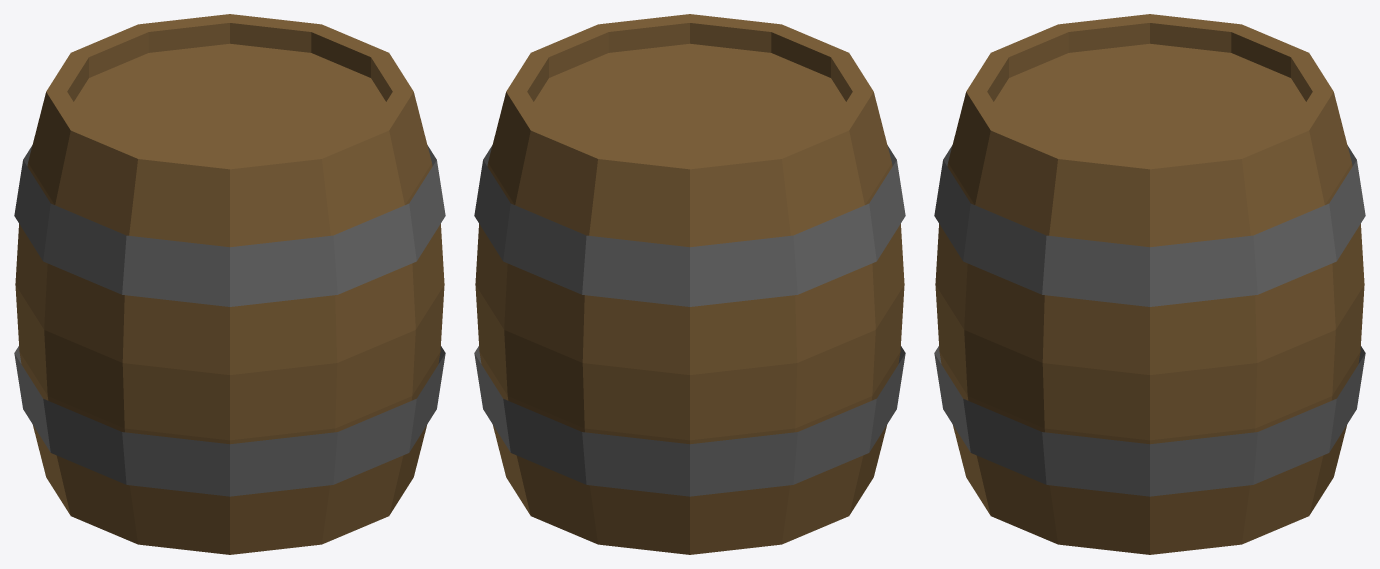
File: barrel.fbx
3 views of the same model, side by side, from view 1: azimuth 30°, elevation 25°; view 2: azimuth 150°, elevation 25°; view 3: azimuth 270°, elevation 25° (orthographic).
Parts seen in each view (by area): view 1: Cylinder, Cylinder.001; view 2: Cylinder, Cylinder.001; view 3: Cylinder, Cylinder.001.
Boxes of the visible parts, x1,y1,x2,y2 form: Cylinder: (15,14,444,554); Cylinder.001: (14,145,445,496); Cylinder: (475,14,904,554); Cylinder.001: (474,145,905,496); Cylinder: (935,14,1364,554); Cylinder.001: (934,145,1365,496).
Size of the model in its own units: 237 by 233 by 237.
